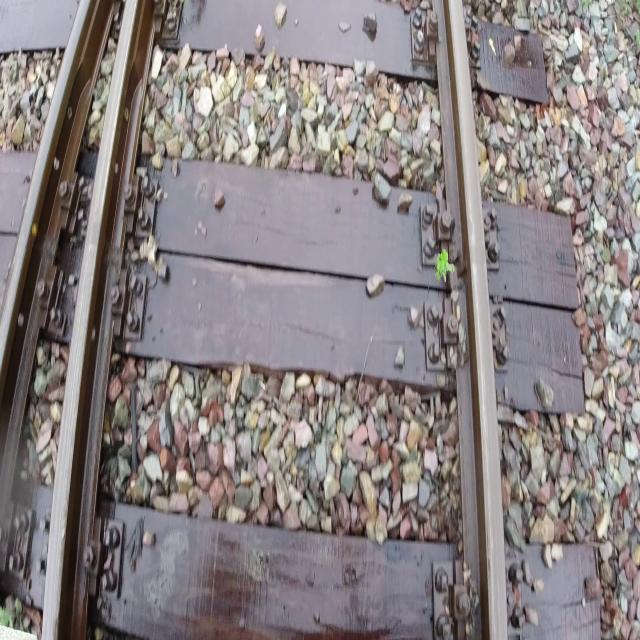Plant: (435, 249, 456, 282)
